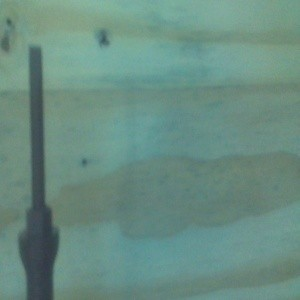obeng: (17, 44, 60, 300)
